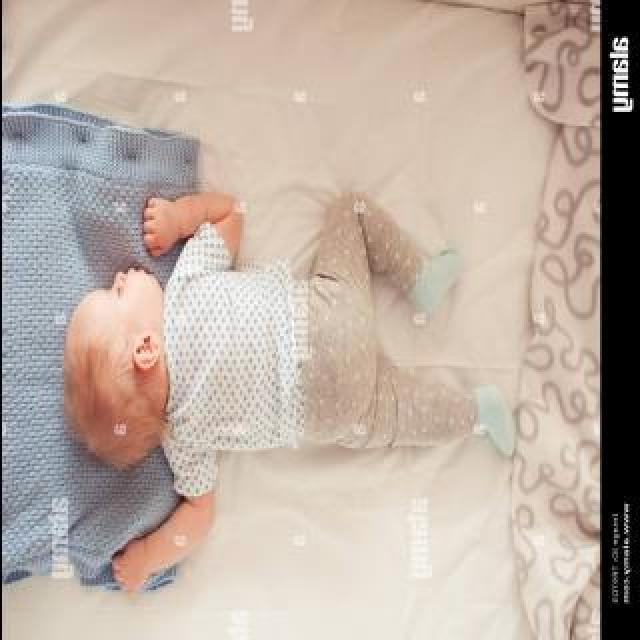baby: (58, 181, 506, 589)
